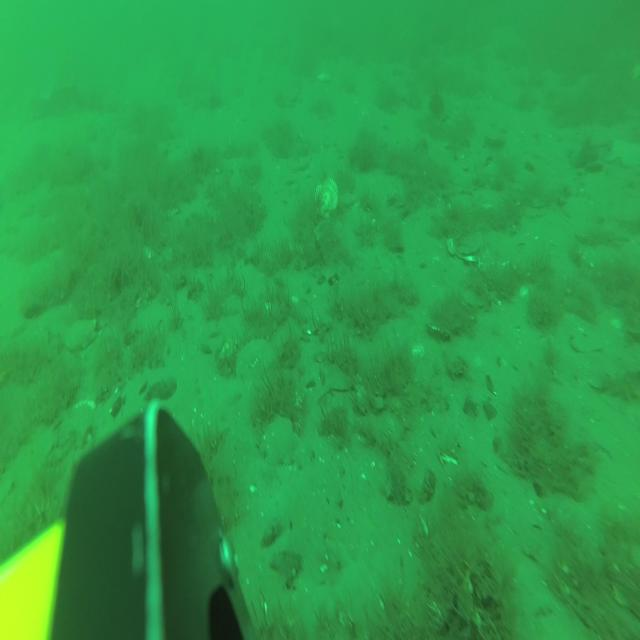scallop: (260, 414, 300, 465), (445, 230, 481, 263), (66, 320, 99, 351), (314, 178, 338, 218)
